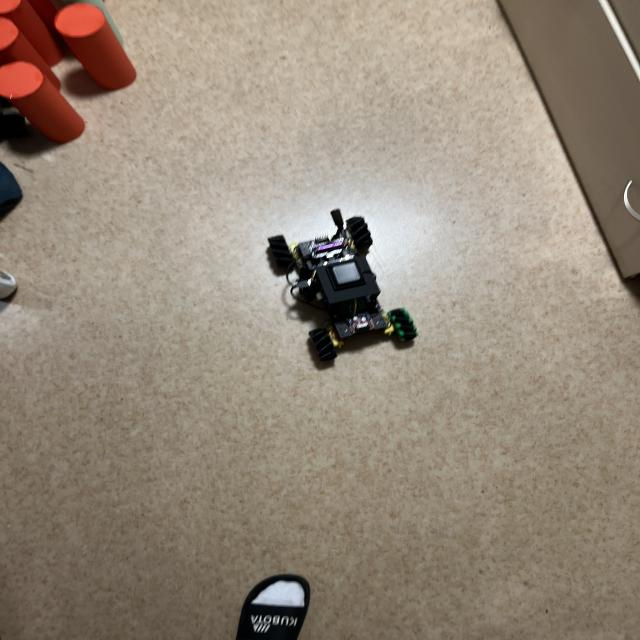robot: (268, 209, 417, 361)
